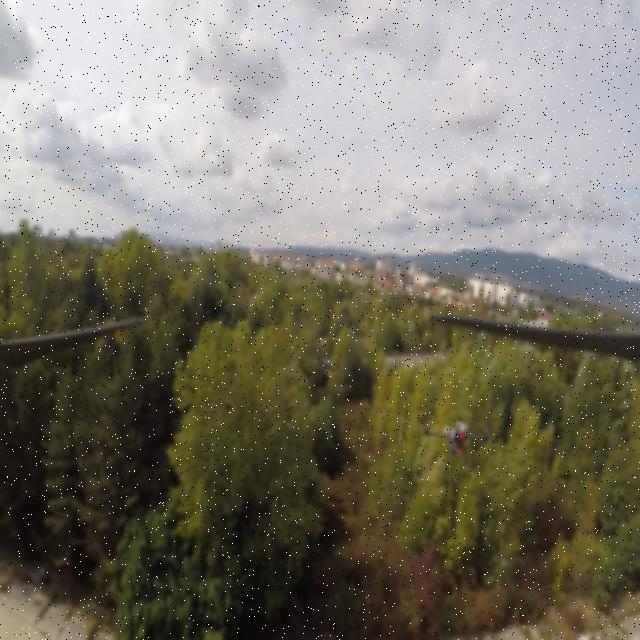UAV: (422, 412, 494, 486)
